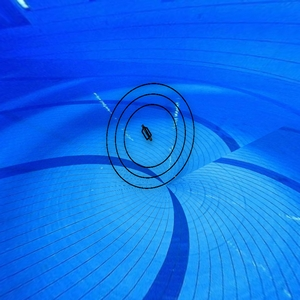circle: (101, 81, 201, 194)
submarine: (138, 122, 159, 147)
